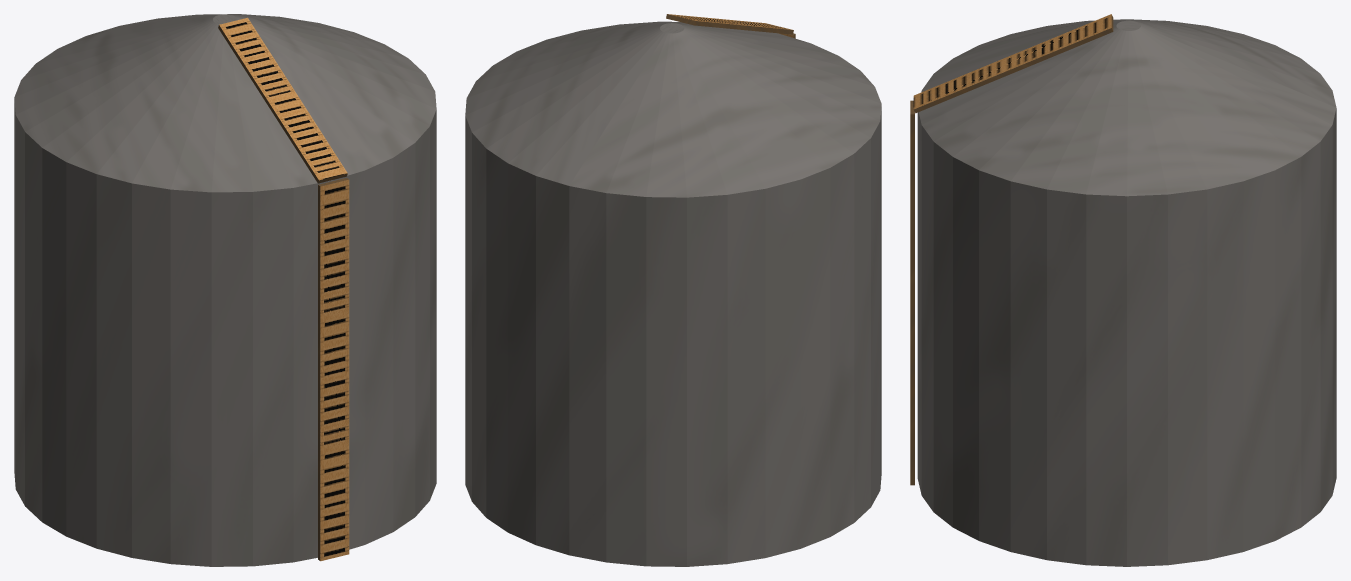
File: Viljasiilo.fbx
3 views of the same model, side by side, from view 1: azimuth 30°, elevation 25°; view 2: azimuth 150°, elevation 25°; view 3: azimuth 270°, elevation 25° (orthographic).
Visible parts, largest first — view 1: Siilo; view 2: Siilo; view 3: Siilo.
Boxes of the visible parts, x1,y1,x2,y2 form: Siilo: [14, 14, 436, 566]; Siilo: [465, 14, 881, 566]; Siilo: [910, 14, 1336, 566].
Size of the model in its own units: 492 by 593 by 500.
